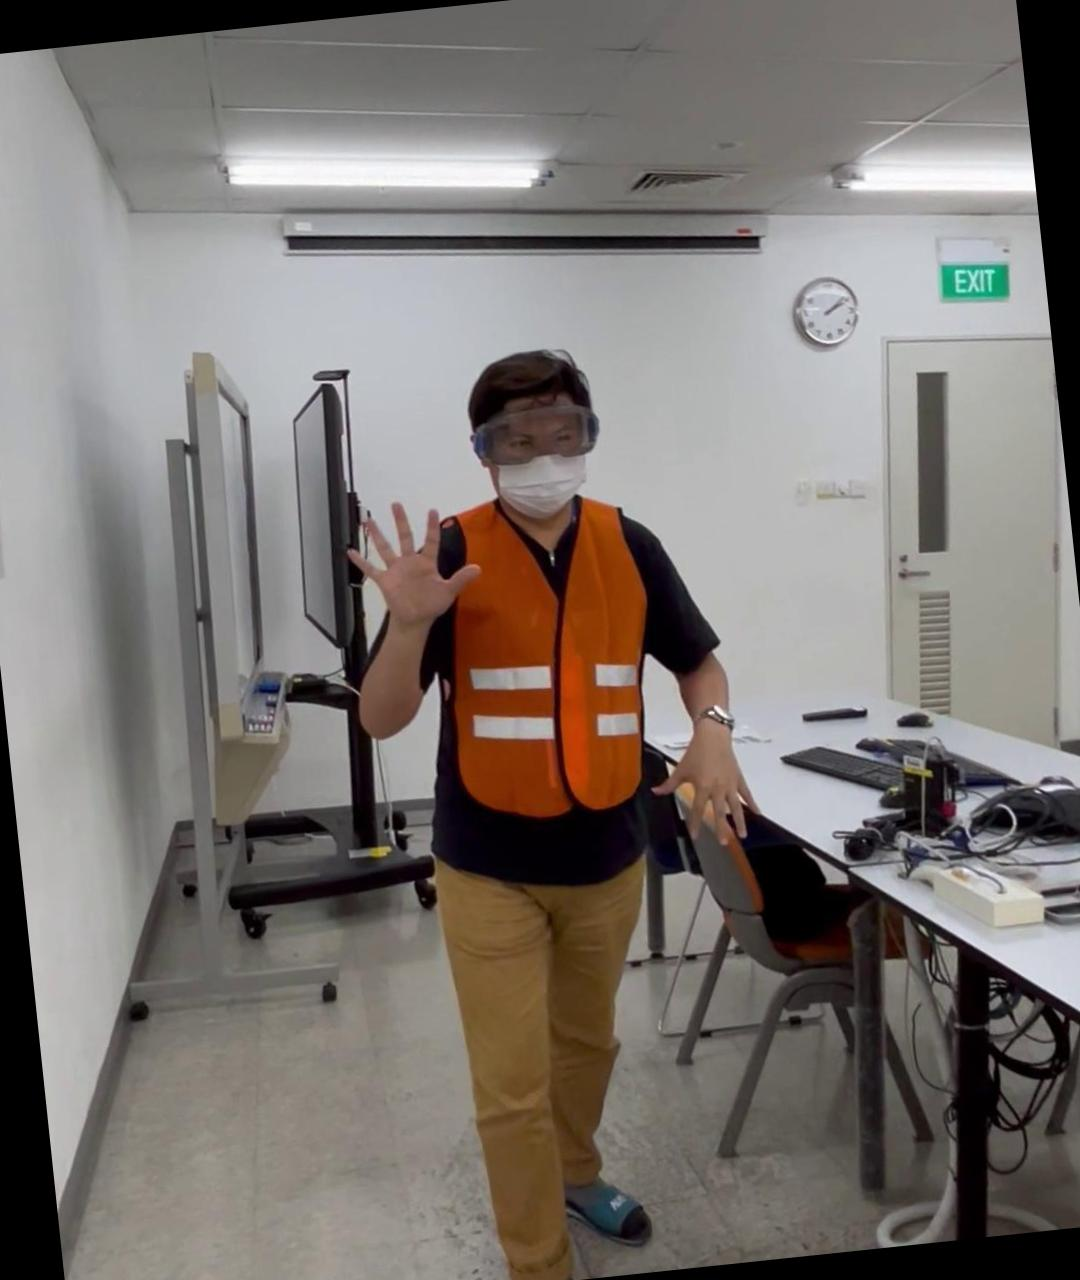No-gloves: (334, 485, 485, 634), (645, 716, 765, 852)
